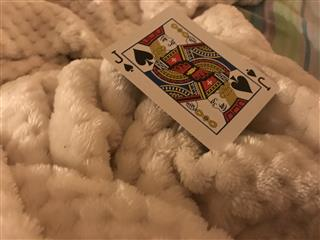JackOfSpades: (100, 5, 279, 151)
